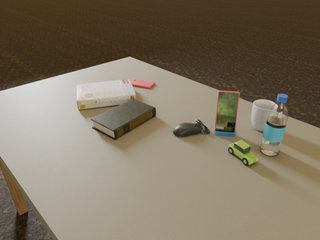book: (91, 99, 156, 140)
bottle: (260, 94, 288, 156)
box: (77, 79, 136, 110)
cup: (251, 100, 275, 131)
mouse: (173, 119, 210, 136)
phone: (215, 91, 240, 132), (130, 79, 155, 88)
toy_car: (228, 140, 258, 165)
